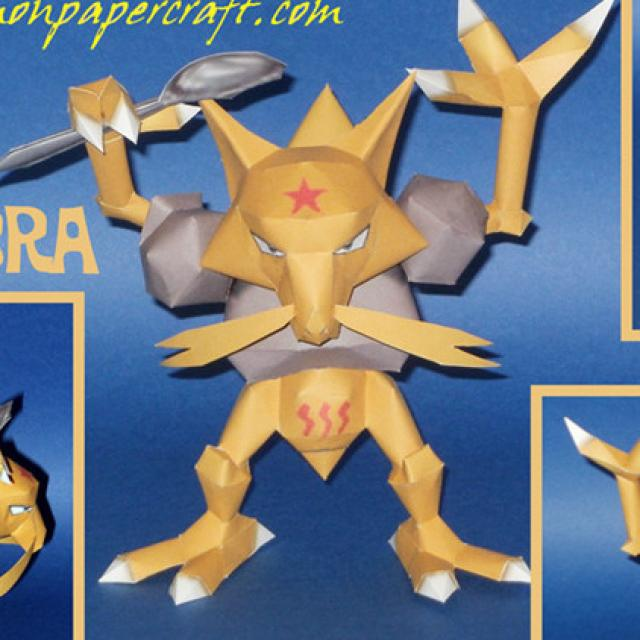Kadabra: (87, 24, 542, 526)
